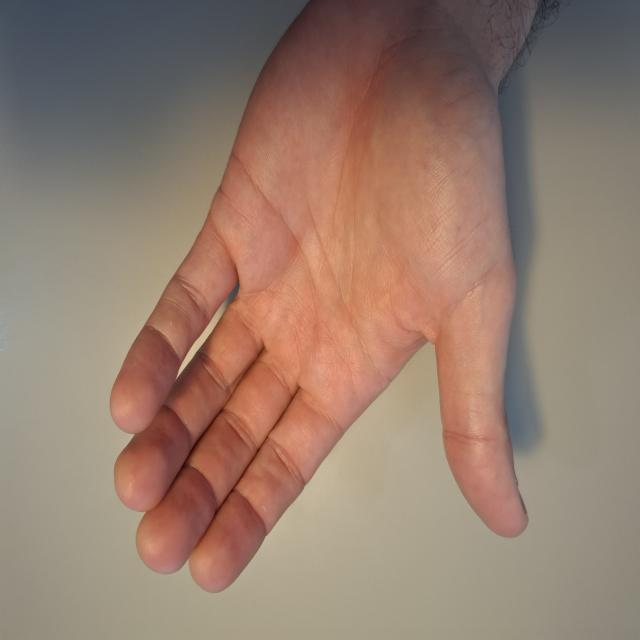glove_off: (107, 0, 532, 594)
